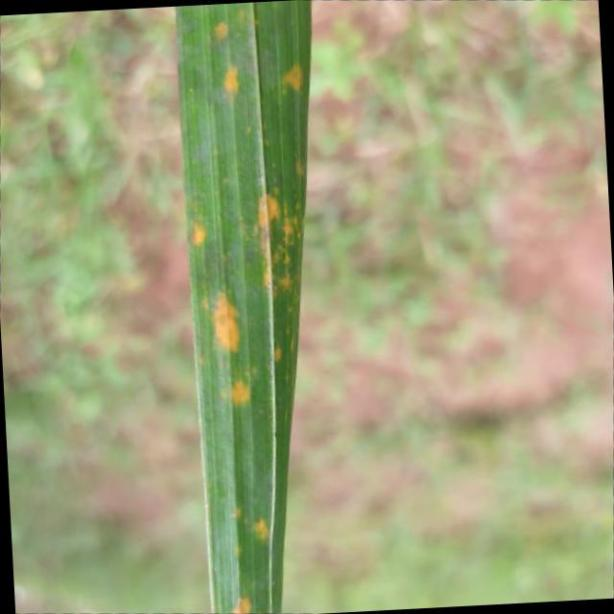Kalium: (174, 0, 312, 614)
